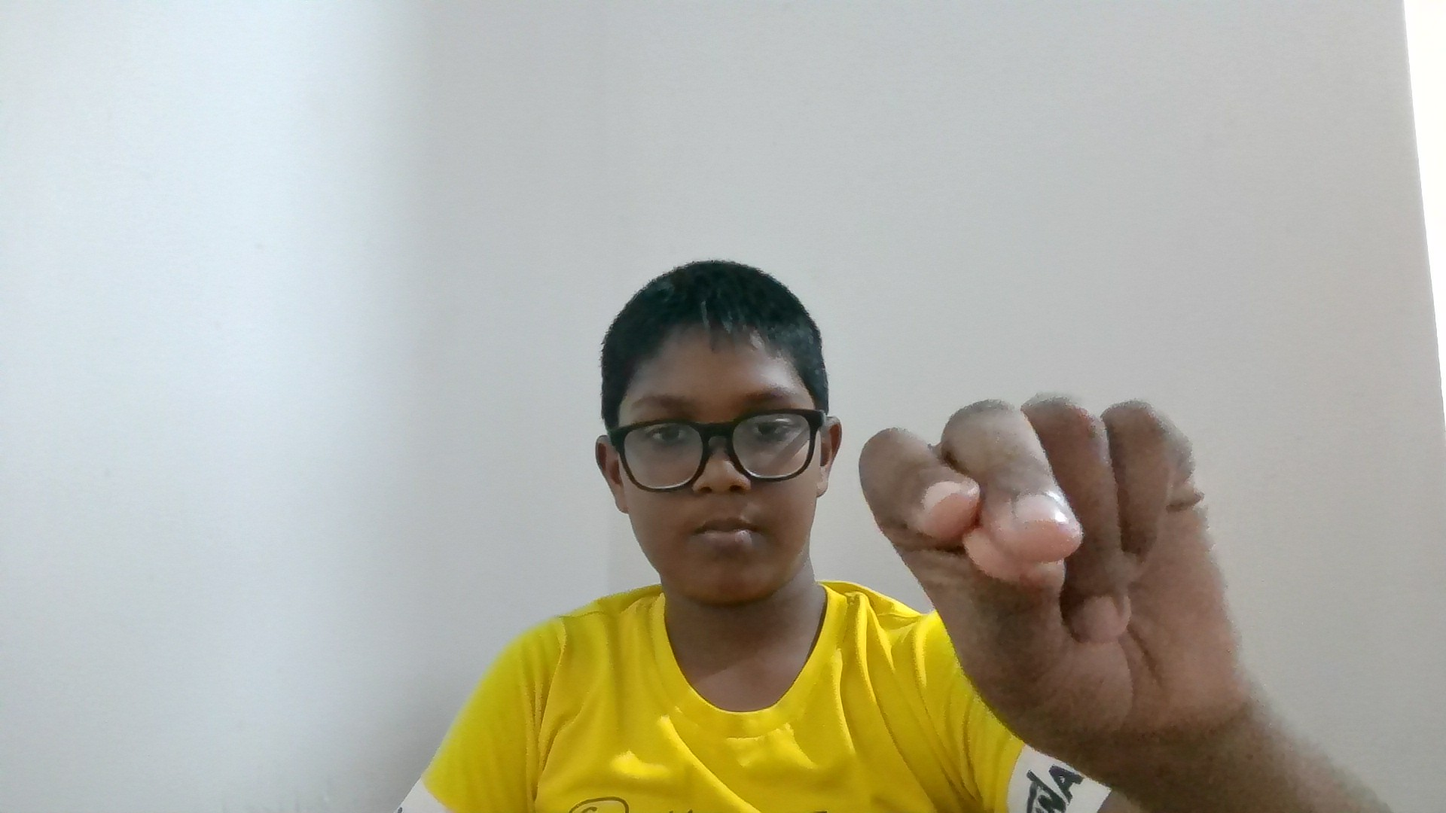No: (860, 287, 1345, 801)
